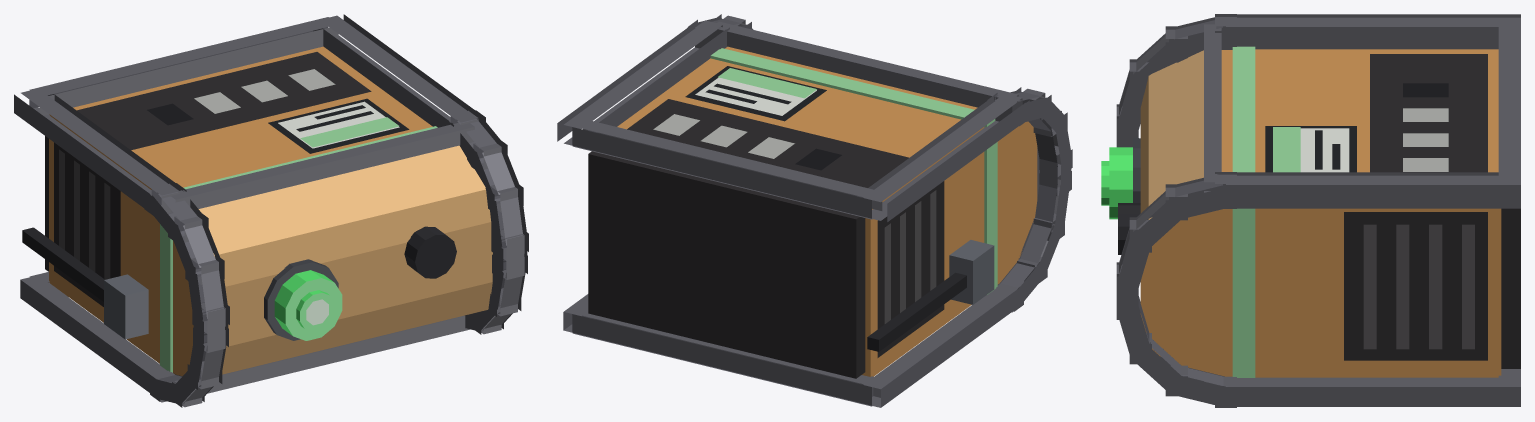
File: backup_ground_premium_on_N.obj
3 views of the same model, side by side, from view 1: azimuth 30°, elevation 25°; view 2: azimuth 150°, elevation 25°; view 3: azimuth 270°, elevation 25° (orthographic). The views are drawn at different scales.
Parts seen in each view (by area): view 1: backup_ground_premium_on_N; view 2: backup_ground_premium_on_N; view 3: backup_ground_premium_on_N.
Boxes of the visible parts, x1,y1,x2,y2 form: backup_ground_premium_on_N: (14,14,528,407); backup_ground_premium_on_N: (557,14,1072,407); backup_ground_premium_on_N: (1101,14,1520,407).
Bounding box in the file's own units: 0.631 × 0.377 × 0.6405.
1 material, 1 textured.
